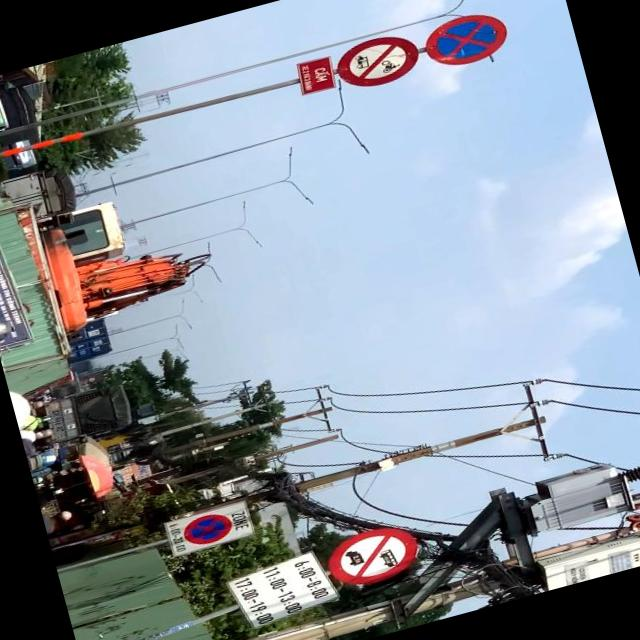P-104: (332, 26, 422, 94)
P-130: (421, 7, 511, 72), (177, 508, 236, 548)
